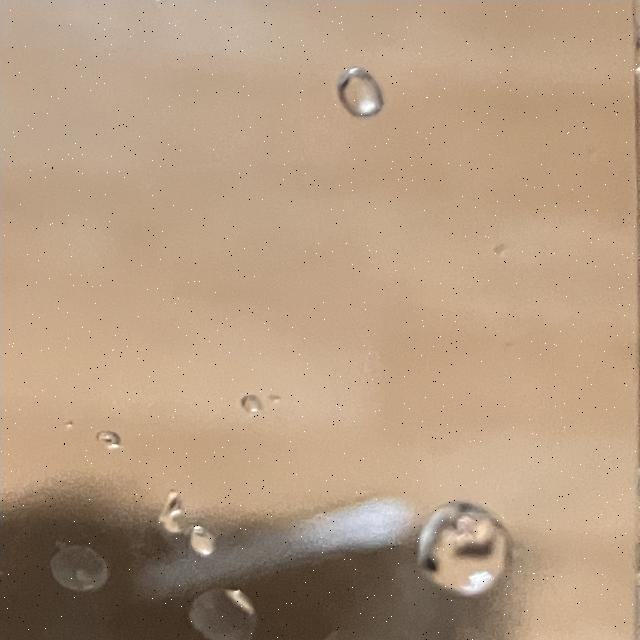raindrop: (411, 508, 501, 596), (177, 587, 286, 640), (317, 60, 391, 123), (46, 540, 102, 601), (140, 486, 192, 544), (89, 419, 121, 462), (195, 522, 228, 562), (238, 388, 268, 420)
